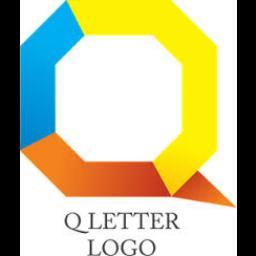e: (101, 212, 117, 230)
g: (119, 236, 137, 256)
l: (84, 238, 100, 256)
o: (138, 236, 156, 256)
q: (22, 0, 236, 208), (62, 211, 88, 235)
r: (164, 208, 180, 232)
t: (116, 212, 132, 230)
